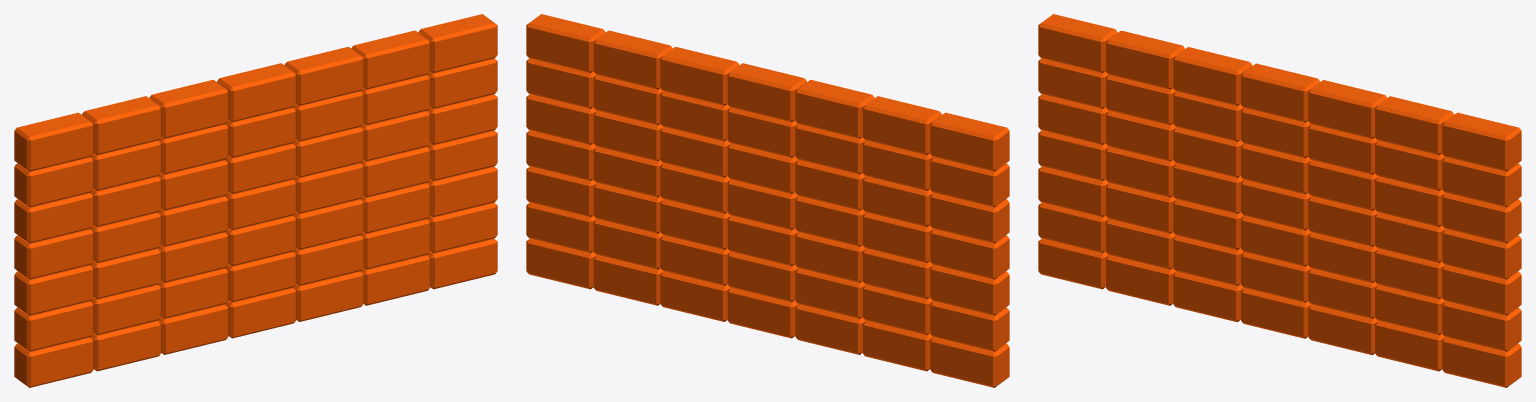
Rendered from duvar.fbx.
3 renders of one model, left to right at view 1: azimuth 30°, elevation 25°; view 2: azimuth 150°, elevation 25°; view 3: azimuth 330°, elevation 25°, orthographic.
Visible parts, largest first — view 1: Brick_008, Brick_004, Brick_007, Brick_005, Brick_001, Brick_003, Brick_002, Brick_036, Brick_050, Brick_022, Brick_029, Brick_043 (+37 smaller); view 2: Brick_008, Brick_004, Brick_007, Brick_005, Brick_001, Brick_003, Brick_002, Brick_036, Brick_050, Brick_022, Brick_029, Brick_043 (+37 smaller); view 3: Brick_001, Brick_005, Brick_008, Brick_007, Brick_004, Brick_002, Brick_003, Brick_030, Brick_044, Brick_016, Brick_023, Brick_037 (+37 smaller).
Part boxes in pixels (<box>): Brick_008: <box>14,112,93,171</box>; Brick_004: <box>217,63,296,122</box>; Brick_007: <box>82,96,161,155</box>; Brick_005: <box>149,79,228,138</box>; Brick_001: <box>418,14,497,73</box>; Brick_003: <box>284,46,363,105</box>; Brick_002: <box>351,30,430,89</box>; Brick_036: <box>14,265,93,315</box>; Brick_050: <box>14,337,93,387</box>; Brick_022: <box>14,193,93,243</box>; Brick_029: <box>14,229,93,279</box>; Brick_043: <box>14,301,93,351</box>; Brick_008: <box>930,112,1009,171</box>; Brick_004: <box>727,63,806,122</box>; Brick_007: <box>862,96,941,155</box>; Brick_005: <box>795,79,874,138</box>; Brick_001: <box>526,14,605,73</box>; Brick_003: <box>660,46,739,105</box>; Brick_002: <box>593,30,672,89</box>; Brick_036: <box>930,265,1009,315</box>; Brick_050: <box>930,337,1009,387</box>; Brick_022: <box>930,193,1009,243</box>; Brick_029: <box>930,229,1009,279</box>; Brick_043: <box>930,301,1009,351</box>; Brick_001: <box>1442,112,1521,171</box>; Brick_005: <box>1173,47,1252,105</box>; Brick_008: <box>1038,14,1117,73</box>; Brick_007: <box>1106,30,1184,89</box>; Brick_004: <box>1241,63,1319,122</box>; Brick_002: <box>1375,96,1454,155</box>; Brick_003: <box>1308,80,1386,138</box>; Brick_030: <box>1442,265,1521,315</box>; Brick_044: <box>1442,337,1521,387</box>; Brick_016: <box>1442,193,1521,243</box>; Brick_023: <box>1442,229,1521,279</box>; Brick_037: <box>1442,301,1521,351</box>.
Size of the model in its own units: 666 by 340 by 38.07.
